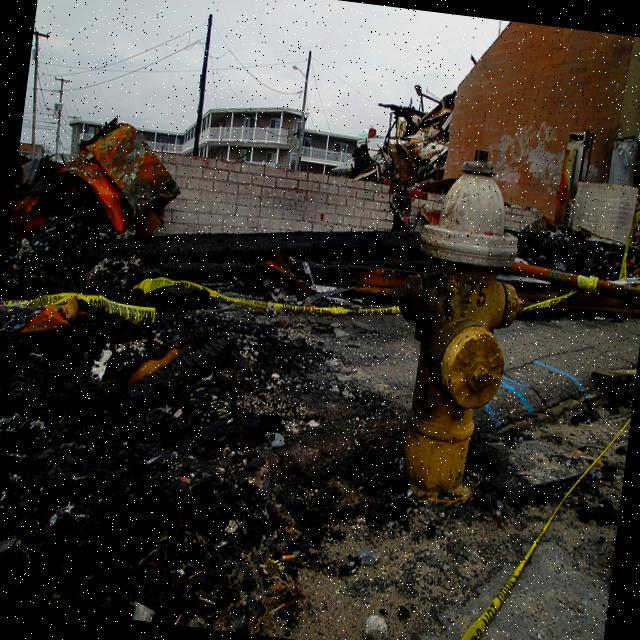fire_hydrant: (368, 142, 536, 496)
